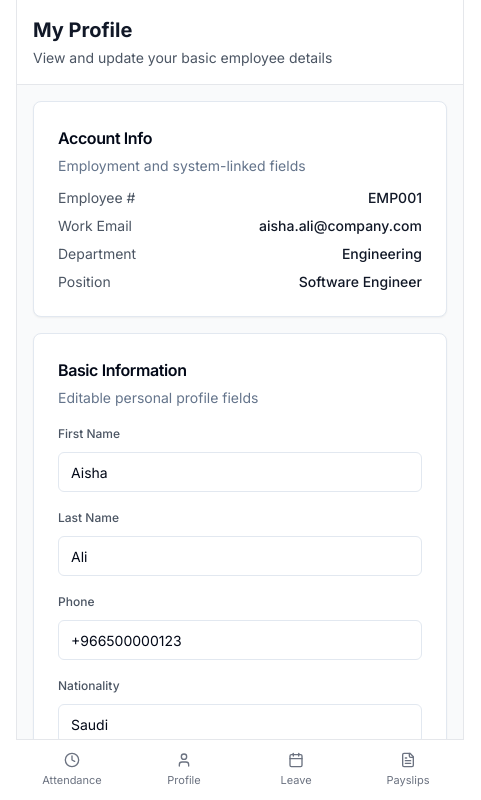
Test: MobileProfilePage › shows validation error when required fields are empty
Clear the field labelled "First Name" at [240, 472], box [58, 452, 422, 492]
(page scrolled)
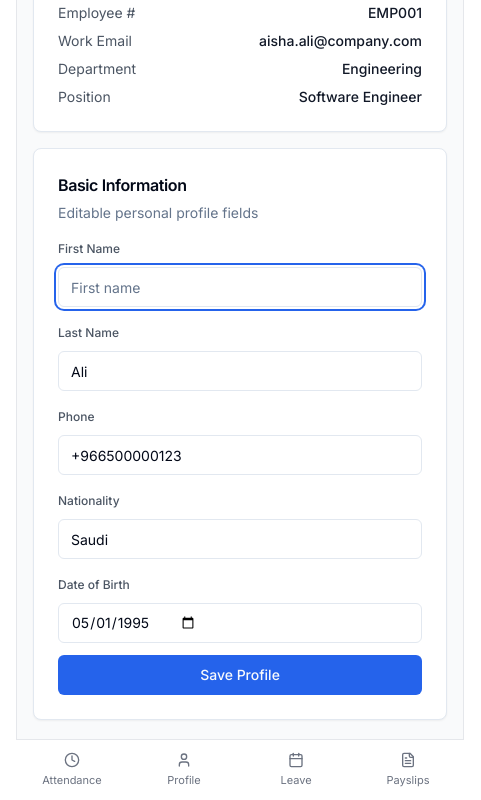
Click the button "Save Profile" at [240, 675], box [58, 655, 422, 695]
(page scrolled)
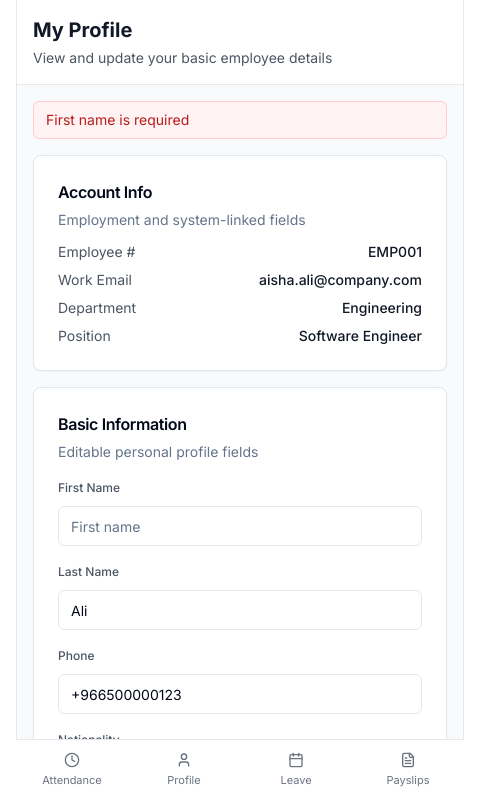
Now the text "First name is required" is shown, box [33, 101, 447, 139]
